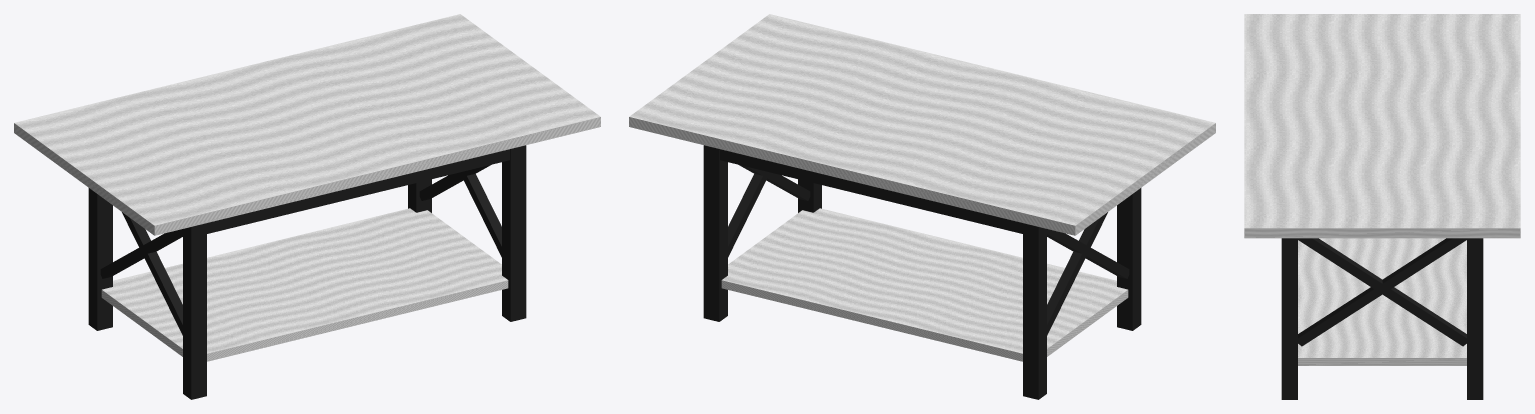
3 views of the same model, side by side, from view 1: azimuth 30°, elevation 25°; view 2: azimuth 150°, elevation 25°; view 3: azimuth 270°, elevation 25° (orthographic).
Parts seen in each view (by area): view 1: 1 tabletop, 4 lower_shelf, 6 front_right_leg, 5 front_left_leg, 2 front_apron, 7 back_left_leg, 9 left_x_brace_1, 11 right_x_brace_1, 10 left_x_brace_2, 12 right_x_brace_2, 8 back_right_leg; view 2: 1 tabletop, 4 lower_shelf, 8 back_right_leg, 7 back_left_leg, 3 back_apron, 5 front_left_leg, 10 left_x_brace_2, 12 right_x_brace_2, 9 left_x_brace_1, 11 right_x_brace_1, 6 front_right_leg; view 3: 1 tabletop, 4 lower_shelf, 6 front_right_leg, 8 back_right_leg, 11 right_x_brace_1, 12 right_x_brace_2.
Boxes of the visible parts, <box> form: 1 tabletop: <box>14,14,600,235</box>; 4 lower_shelf: <box>101,208,508,361</box>; 6 front_right_leg: <box>502,145,526,321</box>; 5 front_left_leg: <box>183,223,206,399</box>; 2 front_apron: <box>207,149,509,233</box>; 7 back_left_leg: <box>88,188,112,330</box>; 9 left_x_brace_1: <box>122,212,182,335</box>; 11 right_x_brace_1: <box>460,171,501,257</box>; 10 left_x_brace_2: <box>100,229,182,278</box>; 12 right_x_brace_2: <box>419,164,491,200</box>; 8 back_right_leg: <box>408,179,431,212</box>; 1 tabletop: <box>629,14,1215,235</box>; 4 lower_shelf: <box>721,208,1128,361</box>; 8 back_right_leg: <box>703,145,727,321</box>; 7 back_left_leg: <box>1023,223,1046,399</box>; 3 back_apron: <box>720,149,1022,233</box>; 5 front_left_leg: <box>1117,188,1141,330</box>; 10 left_x_brace_2: <box>1047,212,1107,335</box>; 12 right_x_brace_2: <box>728,172,768,257</box>; 9 left_x_brace_1: <box>1047,229,1129,278</box>; 11 right_x_brace_1: <box>738,164,810,200</box>; 6 front_right_leg: <box>798,179,821,212</box>; 1 tabletop: <box>1244,14,1520,238</box>; 4 lower_shelf: <box>1298,238,1466,365</box>; 6 front_right_leg: <box>1281,238,1297,399</box>; 8 back_right_leg: <box>1467,238,1483,399</box>; 11 right_x_brace_1: <box>1298,238,1466,346</box>; 12 right_x_brace_2: <box>1298,238,1466,346</box>.
Bounding box in the file's own units: 2.32 × 1 × 1.26.
2 materials, 1 textured.
